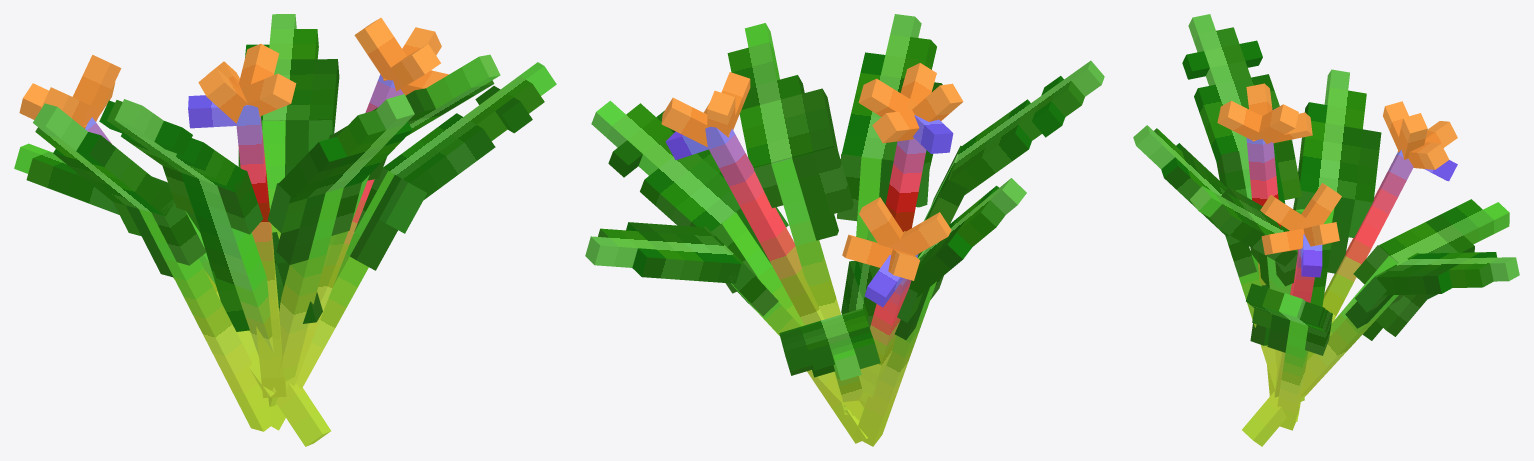
File: deco_fern.glb
3 renders of one model, left to right at view 1: azimuth 30°, elevation 25°; view 2: azimuth 150°, elevation 25°; view 3: azimuth 270°, elevation 25°, orthographic. The views are drawn at different scales.
Parts seen in each view (by area): view 1: l01-00-Local, l00-01$$(1)-Local, l00-00-Local, l00-01$$(2)-Local, bird00-02-Local, bird02-00-Local, l00-01$$(5)-Local, bird00-01-Local, l00-01-Local, l03-00-Local, l00-01$$(3)-Local, l06-00-Local (+4 smaller); view 2: l00-01$$(1)-Local, l01-00-Local, l00-01$$(2)-Local, l03-00-Local, l00-01$$(3)-Local, bird00-02-Local, bird00-00-Local, l00-01-Local, l00-01$$(4)-Local, bird00-01-Local, l00-01$$(5)-Local, bird02-00-Local (+4 smaller); view 3: l00-01$$(1)-Local, l00-01$$(5)-Local, l01-00-Local, l00-01-Local, bird00-02-Local, l03-00-Local, l00-01$$(4)-Local, bird01-00-Local, bird00-01-Local, l00-01$$(3)-Local, l06-00-Local, l00-00-Local (+4 smaller).
Boxes of the visible parts, x1=… form: l01-00-Local: x1=113, y1=167, x2=427, y2=431; l00-01$$(1)-Local: x1=245, y1=14, x2=414, y2=203; l00-00-Local: x1=162, y1=165, x2=279, y2=356; l00-01$$(2)-Local: x1=383, y1=62, x2=556, y2=199; bird00-02-Local: x1=19, y1=27, x2=448, y2=128; bird02-00-Local: x1=188, y1=95, x2=286, y2=397; l00-01$$(5)-Local: x1=33, y1=103, x2=174, y2=216; bird00-01-Local: x1=41, y1=17, x2=440, y2=127; l00-01-Local: x1=99, y1=99, x2=246, y2=193; l03-00-Local: x1=185, y1=134, x2=387, y2=446; l00-01$$(3)-Local: x1=333, y1=54, x2=500, y2=136; l06-00-Local: x1=238, y1=120, x2=333, y2=239; l00-01$$(1)-Local: x1=585, y1=14, x2=942, y2=283; l01-00-Local: x1=711, y1=154, x2=943, y2=446; l00-01$$(2)-Local: x1=591, y1=100, x2=740, y2=231; l03-00-Local: x1=753, y1=143, x2=863, y2=410; l00-01$$(3)-Local: x1=727, y1=23, x2=837, y2=167; bird00-02-Local: x1=661, y1=63, x2=963, y2=280; bird00-00-Local: x1=665, y1=126, x2=824, y2=325; l00-01-Local: x1=949, y1=60, x2=1104, y2=194; l00-01$$(4)-Local: x1=780, y1=310, x2=880, y2=380; bird00-01-Local: x1=707, y1=72, x2=951, y2=255; l00-01$$(5)-Local: x1=909, y1=178, x2=1026, y2=297; bird02-00-Local: x1=885, y1=115, x2=953, y2=232; l00-01$$(1)-Local: x1=1133, y1=125, x2=1519, y2=295; l00-01$$(5)-Local: x1=1298, y1=69, x2=1381, y2=202; l01-00-Local: x1=1225, y1=190, x2=1372, y2=430; l00-01-Local: x1=1182, y1=14, x2=1291, y2=162; bird00-02-Local: x1=1217, y1=83, x2=1457, y2=254; l03-00-Local: x1=1242, y1=220, x2=1431, y2=446; l00-01$$(4)-Local: x1=1379, y1=199, x2=1509, y2=300; bird01-00-Local: x1=1322, y1=150, x2=1457, y2=322; bird00-01-Local: x1=1260, y1=101, x2=1427, y2=230; l00-01$$(3)-Local: x1=1190, y1=186, x2=1297, y2=266; l06-00-Local: x1=1301, y1=253, x2=1418, y2=396; l00-00-Local: x1=1216, y1=140, x2=1302, y2=276.
Size of the model in its own units: 24.28 by 19.93 by 20.26.
Materials: 16 (16 with a texture image).
